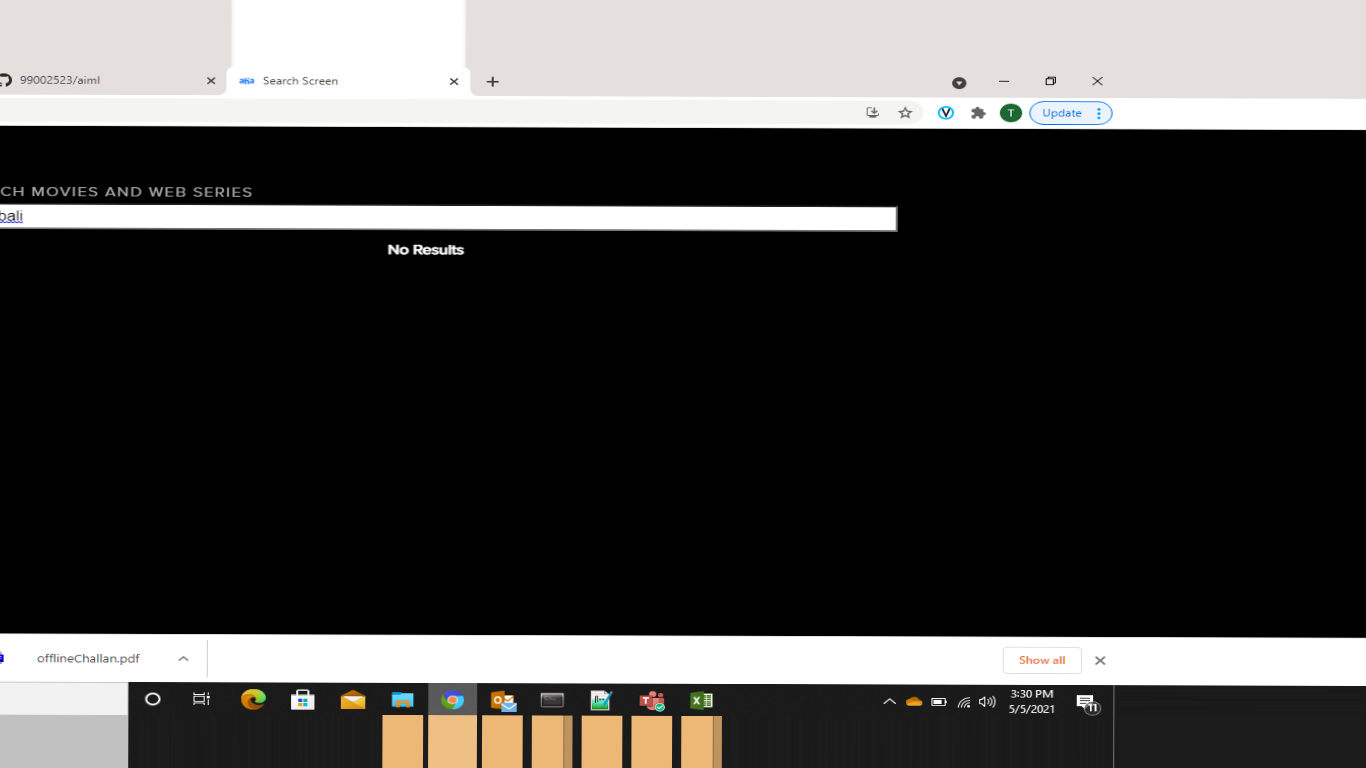noresultsfound: (359, 237, 508, 263)
searchtextbox: (1, 170, 912, 255)
